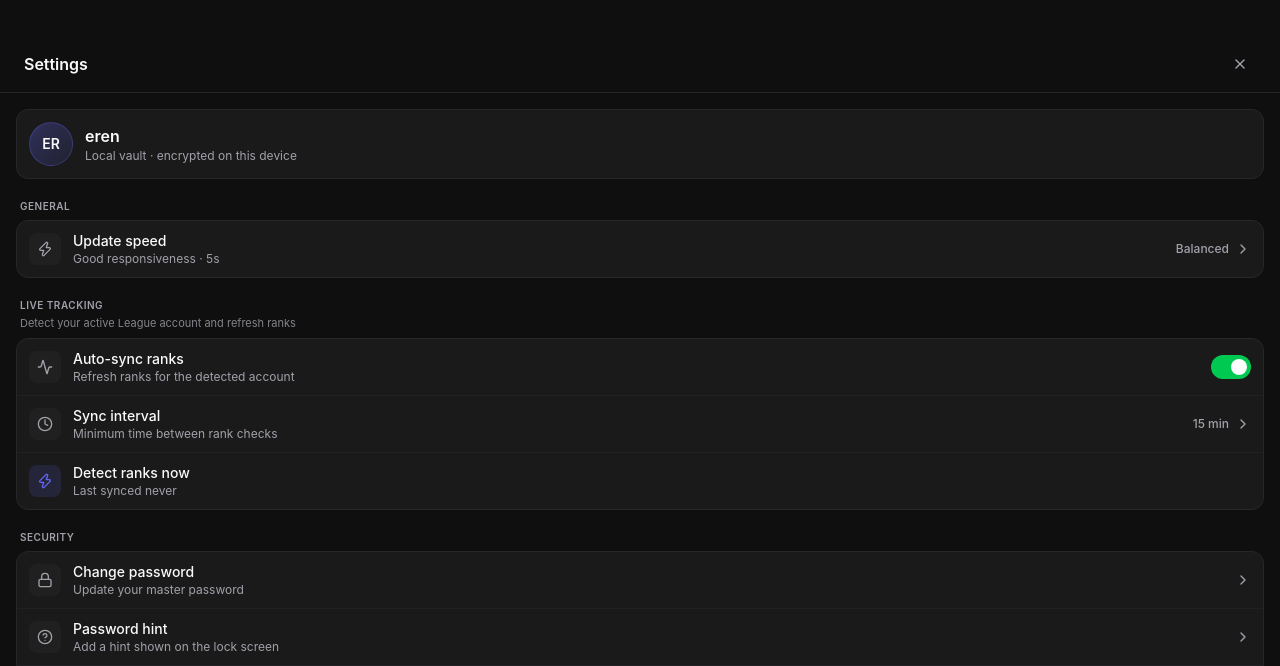
Test: SettingsModal — sync interval picker › renders the current value in minutes
Click the button "Sync interval Minimum time between rank checks 15 min": (45, 424) [17, 396, 1263, 452]
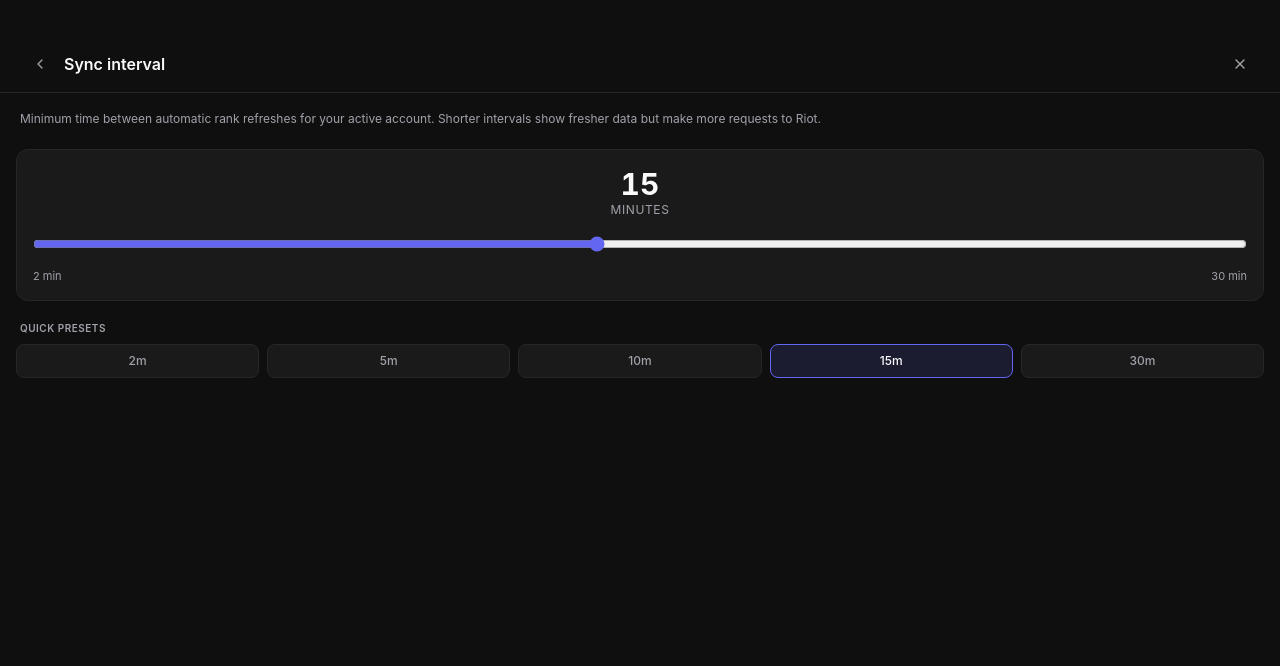
Check: the text "15" is shown, box [621, 166, 659, 202]
Check: the text "minutes" is shown, box [610, 202, 669, 216]
